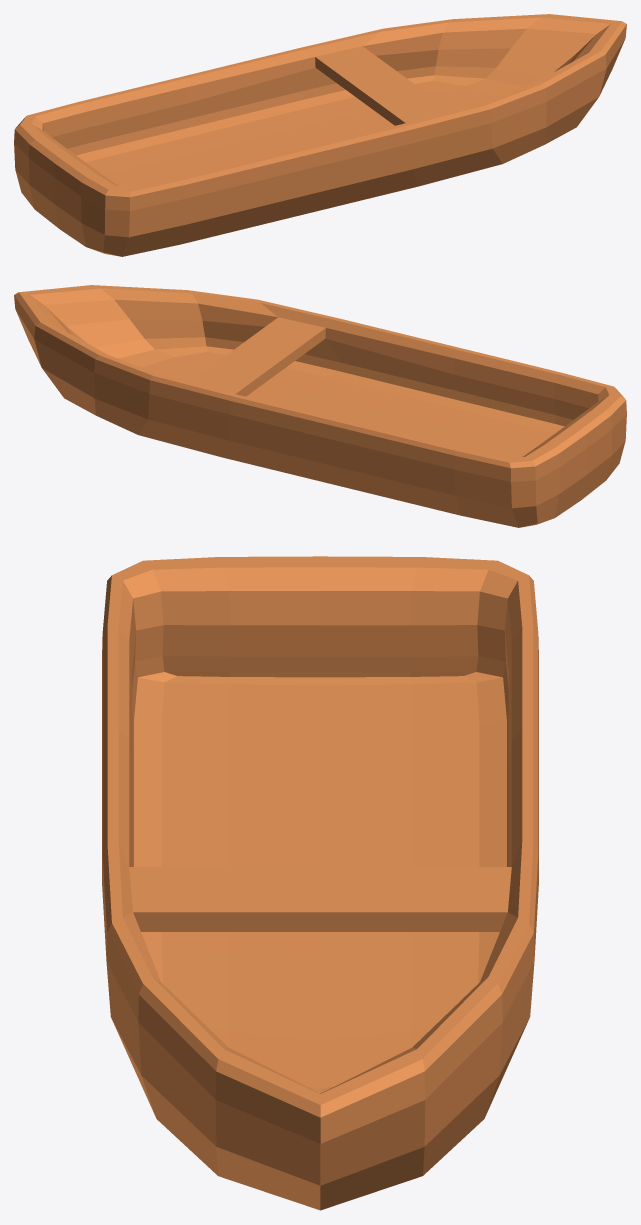
File: boat.glb
The picture shows the model from 3 angles, top to bottom: view 1: azimuth 30°, elevation 25°; view 2: azimuth 150°, elevation 25°; view 3: azimuth 270°, elevation 25°; orthographic projection. The views are drawn at different scales.
Parts seen in each view (by area): view 1: Cube; view 2: Cube; view 3: Cube.
Part boxes in pixels (x1,y1,x2,y2): Cube: (14,14,626,256); Cube: (14,285,626,527); Cube: (102,556,538,1210).
Bounding box in the file's own units: 9 × 1.27 × 2.98.
